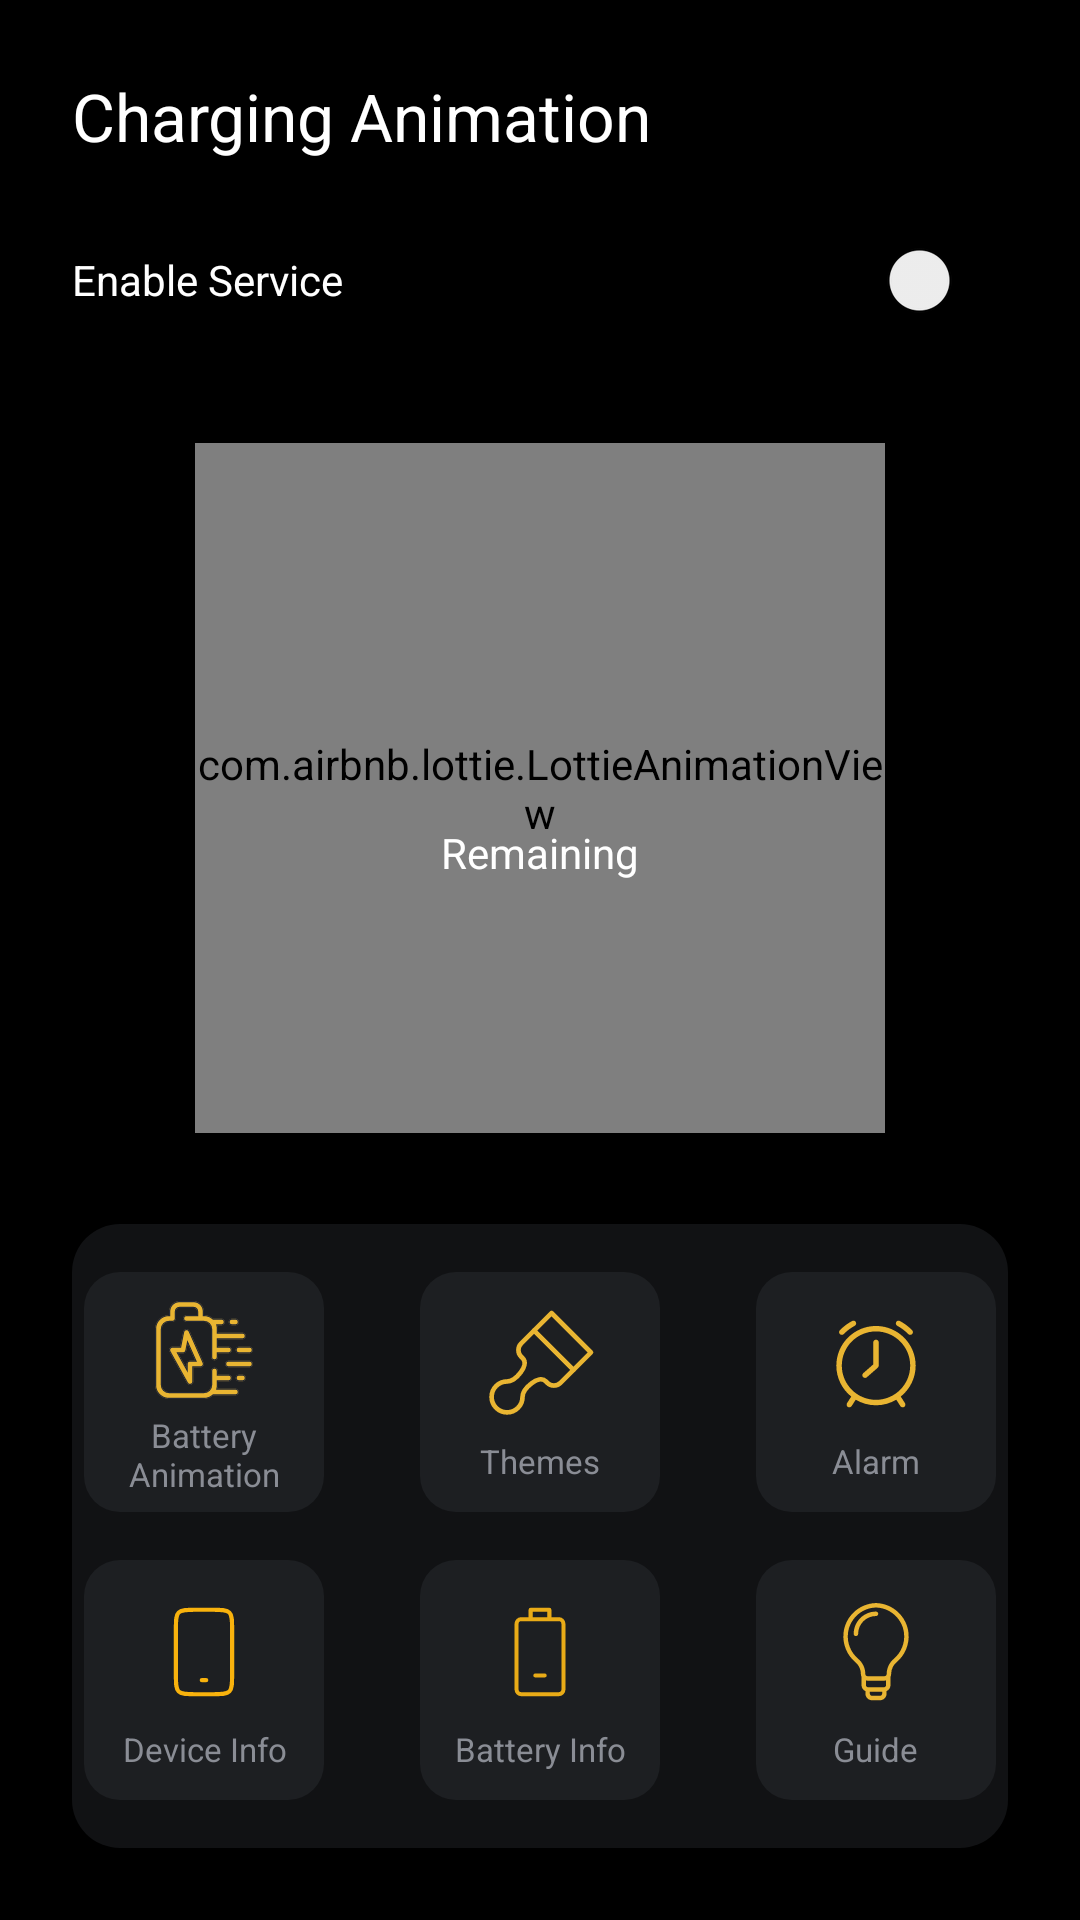

Named icons in this screenshot (1080×1920) and their centers, (x=x, y=y):
brush: (x=541, y=1362)
bulb: (x=876, y=1652)
mobile: (x=204, y=1652)
